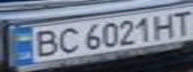0: (100, 19, 121, 48)
1: (133, 15, 154, 43)
2: (115, 16, 139, 46)
6: (81, 20, 103, 51)
B: (27, 27, 63, 58)
C: (54, 25, 81, 55)
H: (148, 11, 181, 39)
T: (166, 8, 193, 36)
